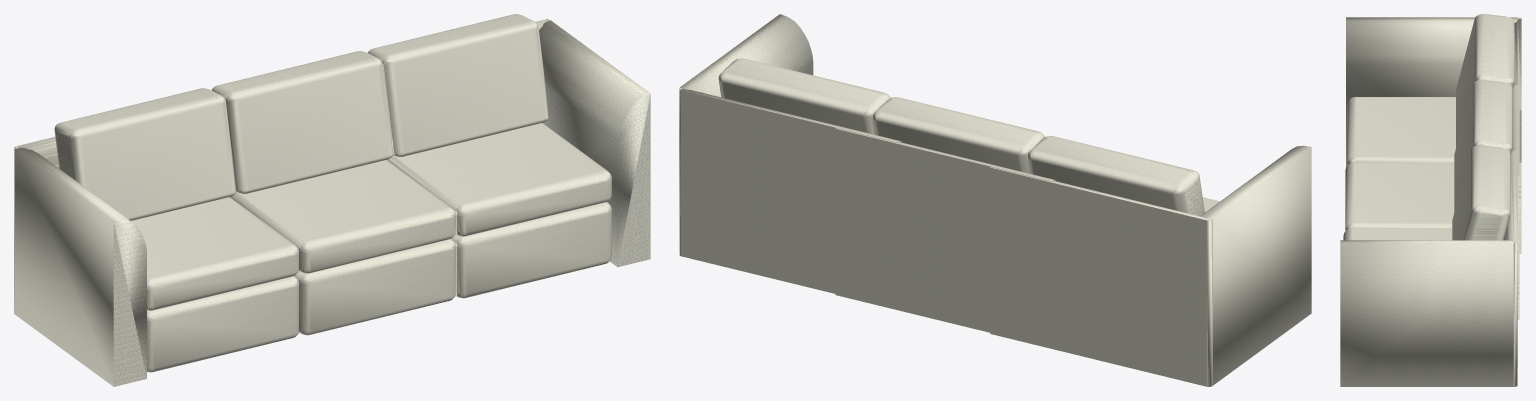
The model's file is sofa1.glb.
3 renders of one model, left to right at view 1: azimuth 30°, elevation 25°; view 2: azimuth 150°, elevation 25°; view 3: azimuth 270°, elevation 25°, orthographic. The views are drawn at different scales.
Visible parts, largest first — view 1: sofa1; view 2: sofa1; view 3: sofa1.
Part boxes in pixels (x1,y1,x2,y2): sofa1: (14,14,650,386); sofa1: (679,14,1311,386); sofa1: (1340,14,1521,386).
Bounding box in the file's own units: 2.34 × 0.7923 × 0.7937.
Materials: 1 (1 with a texture image).
